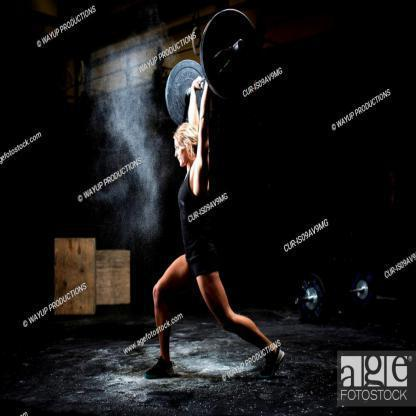Barbell: (237, 29, 249, 63)
